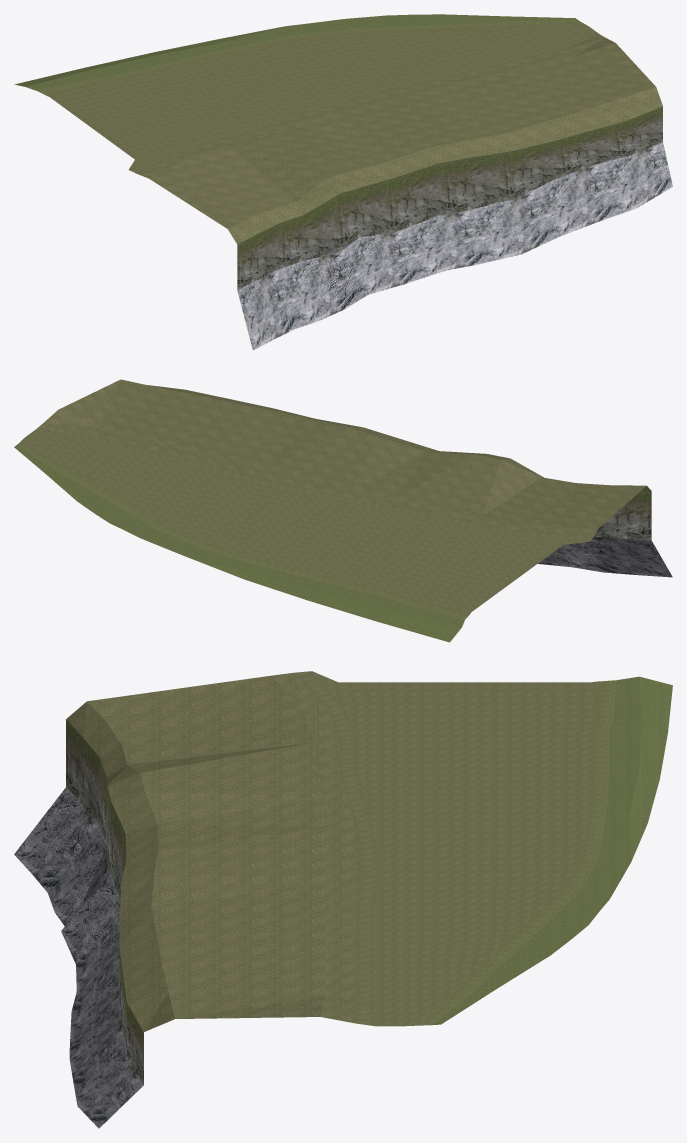
The model's file is vegassedge22.obj.
The picture shows the model from 3 angles, top to bottom: view 1: azimuth 30°, elevation 25°; view 2: azimuth 150°, elevation 25°; view 3: azimuth 270°, elevation 25°; orthographic projection. The views are drawn at different scales.
Visible parts, largest first — view 1: vegasSedge22; view 2: vegasSedge22; view 3: vegasSedge22.
Boxes of the visible parts, x1,y1,x2,y2 form: vegasSedge22: (14,14,672,350); vegasSedge22: (14,379,672,642); vegasSedge22: (14,671,672,1128).
Size of the model in its own units: 248 by 56.64 by 194.
Materials: 7 (7 with a texture image).
